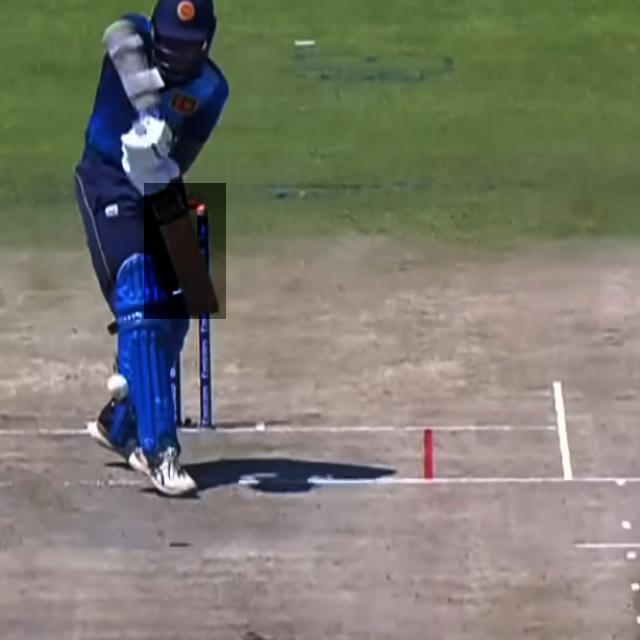bat: (145, 183, 228, 318)
